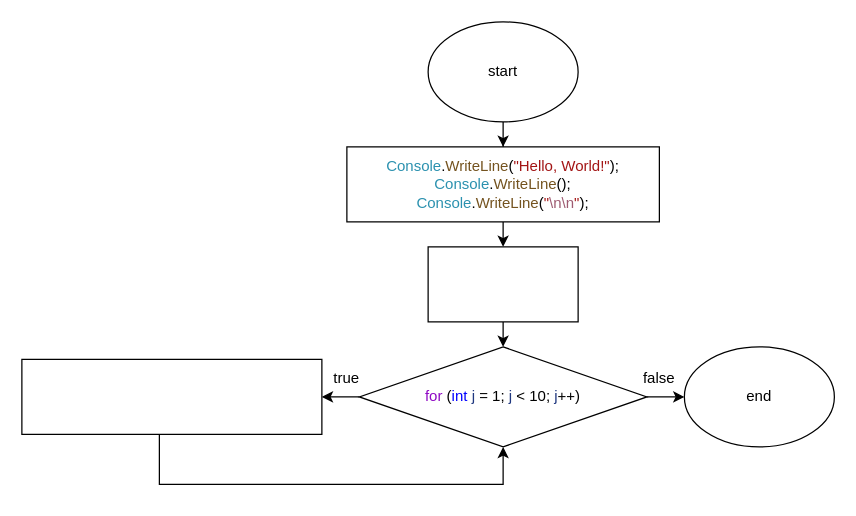
The diagram is 856 pixels wide and 516 high, and some of its shapes have lost their labels. The centre of each missing label's shape, as x and y in pixels:
"Console . WriteLine ( sum = sum + j );" belongs at (171,396).
"int sum = 0;" belongs at (502,284).
